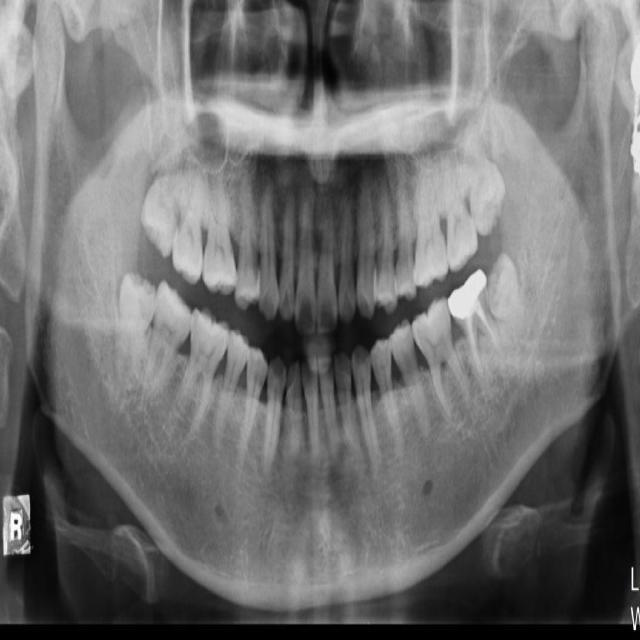3M ESPE Implant: (130, 161, 194, 262)
52: (436, 264, 503, 332)
73: (454, 295, 512, 386), (581, 583, 584, 591)
BioHorizons Implant: (441, 148, 479, 273)
BioLife Implant: (449, 121, 515, 241)
Biomet 3i Implant: (485, 253, 520, 322)
Blue Sky Bio Implant: (440, 266, 513, 387)
Caries: (172, 171, 206, 284)
Implant: (141, 281, 198, 400)
Keystone Dental Implant: (109, 266, 162, 392)
